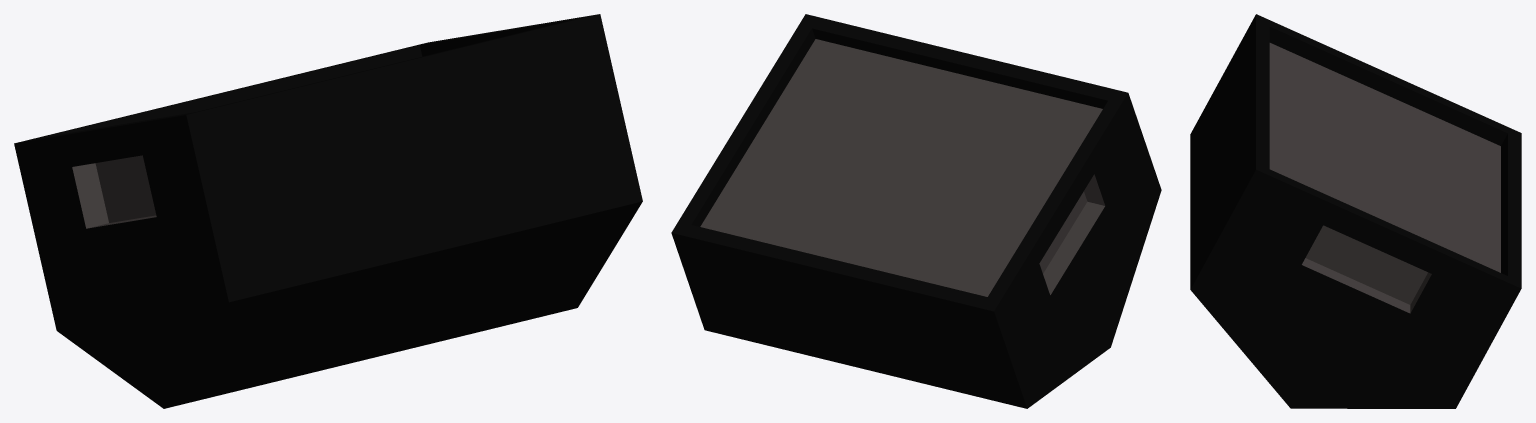
Rendered from SpeakersStageMonitor.glb.
3 views of the same model, side by side, from view 1: azimuth 30°, elevation 25°; view 2: azimuth 150°, elevation 25°; view 3: azimuth 270°, elevation 25° (orthographic). The views are drawn at different scales.
Parts seen in each view (by area): view 1: SpeakerStageMonitor; view 2: SpeakerStageMonitor; view 3: SpeakerStageMonitor.
Part boxes in pixels (<box>): SpeakerStageMonitor: <box>14,14,642,408</box>; SpeakerStageMonitor: <box>671,14,1161,408</box>; SpeakerStageMonitor: <box>1190,14,1521,408</box>.
Bounding box in the file's own units: 0.9946 × 0.7134 × 0.8944.
Materials: 1 (1 with a texture image).
